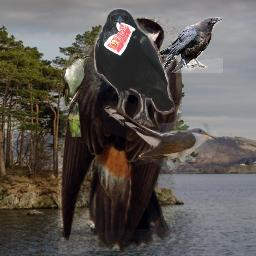Crow: (94, 8, 175, 128), (157, 17, 223, 73)
Cuckoo: (103, 101, 218, 175), (61, 50, 90, 137)
Swallow: (58, 17, 182, 254)
